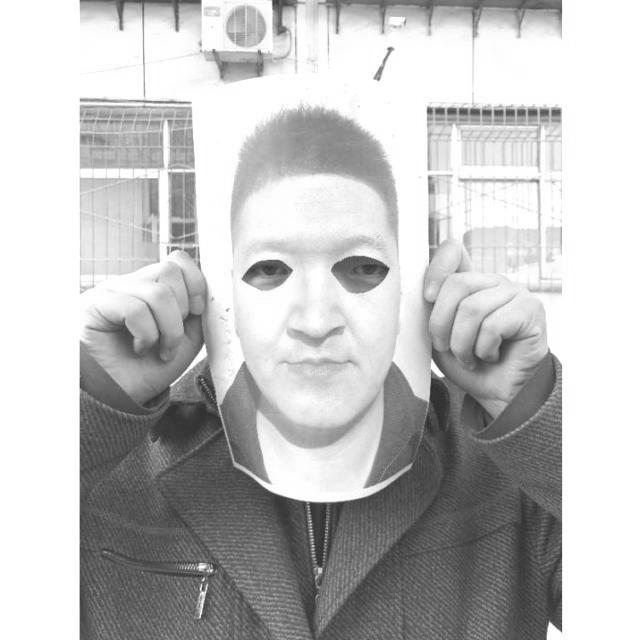fake: (188, 72, 438, 510)
